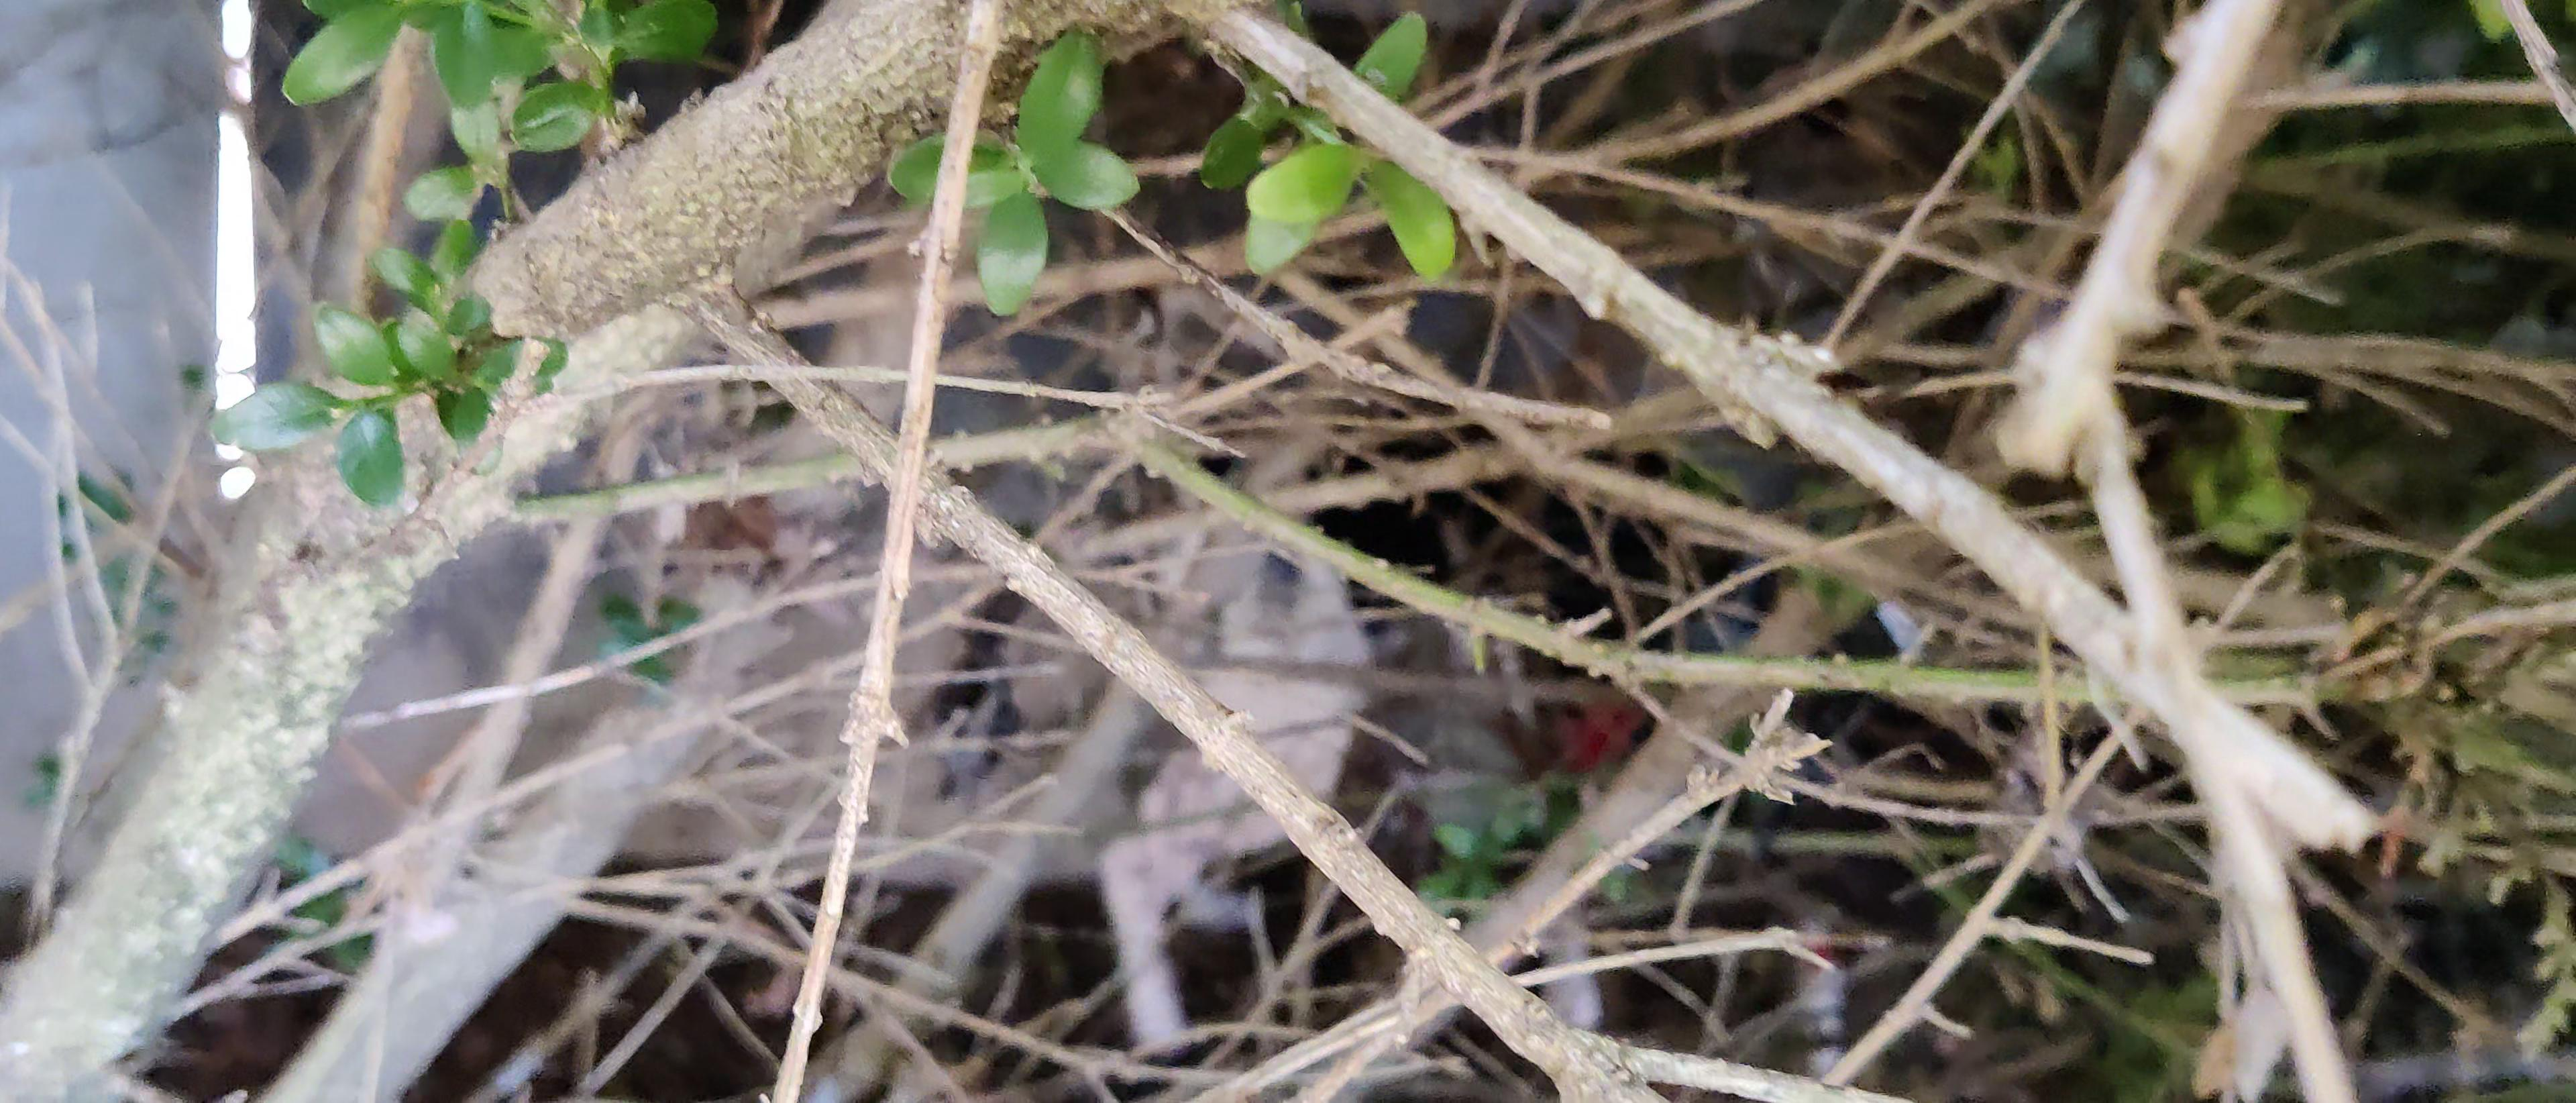Dog: (1065, 426, 1939, 1054)
